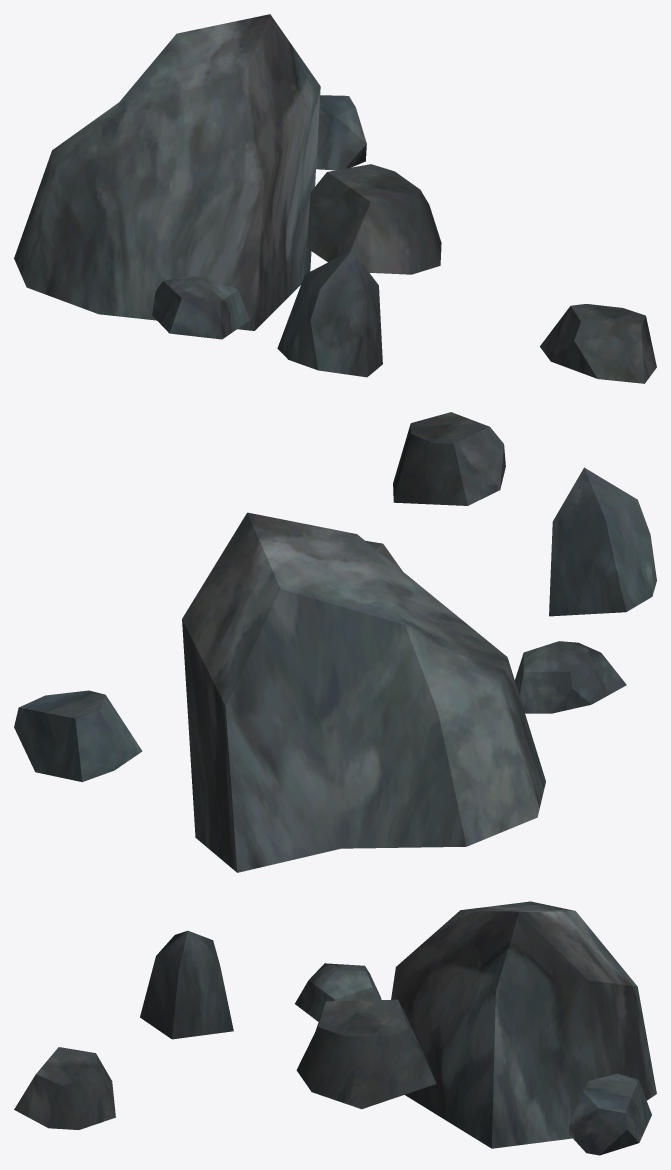
Rendered from object_rubble24.fbx.
3 renders of one model, top to bottom at view 1: azimuth 30°, elevation 25°; view 2: azimuth 150°, elevation 25°; view 3: azimuth 270°, elevation 25°, orthographic. The views are drawn at different scales.
Parts seen in each view (by area): view 1: Material_#238683587/cliffside; view 2: Material_#238683587/cliffside; view 3: Material_#238683587/cliffside.
Part boxes in pixels (bbox=[...]): Material_#238683587/cliffside: bbox=[14, 14, 656, 383]; Material_#238683587/cliffside: bbox=[14, 412, 656, 872]; Material_#238683587/cliffside: bbox=[14, 901, 656, 1155].
Size of the model in its own units: 2.02 by 1.27 by 3.28.
